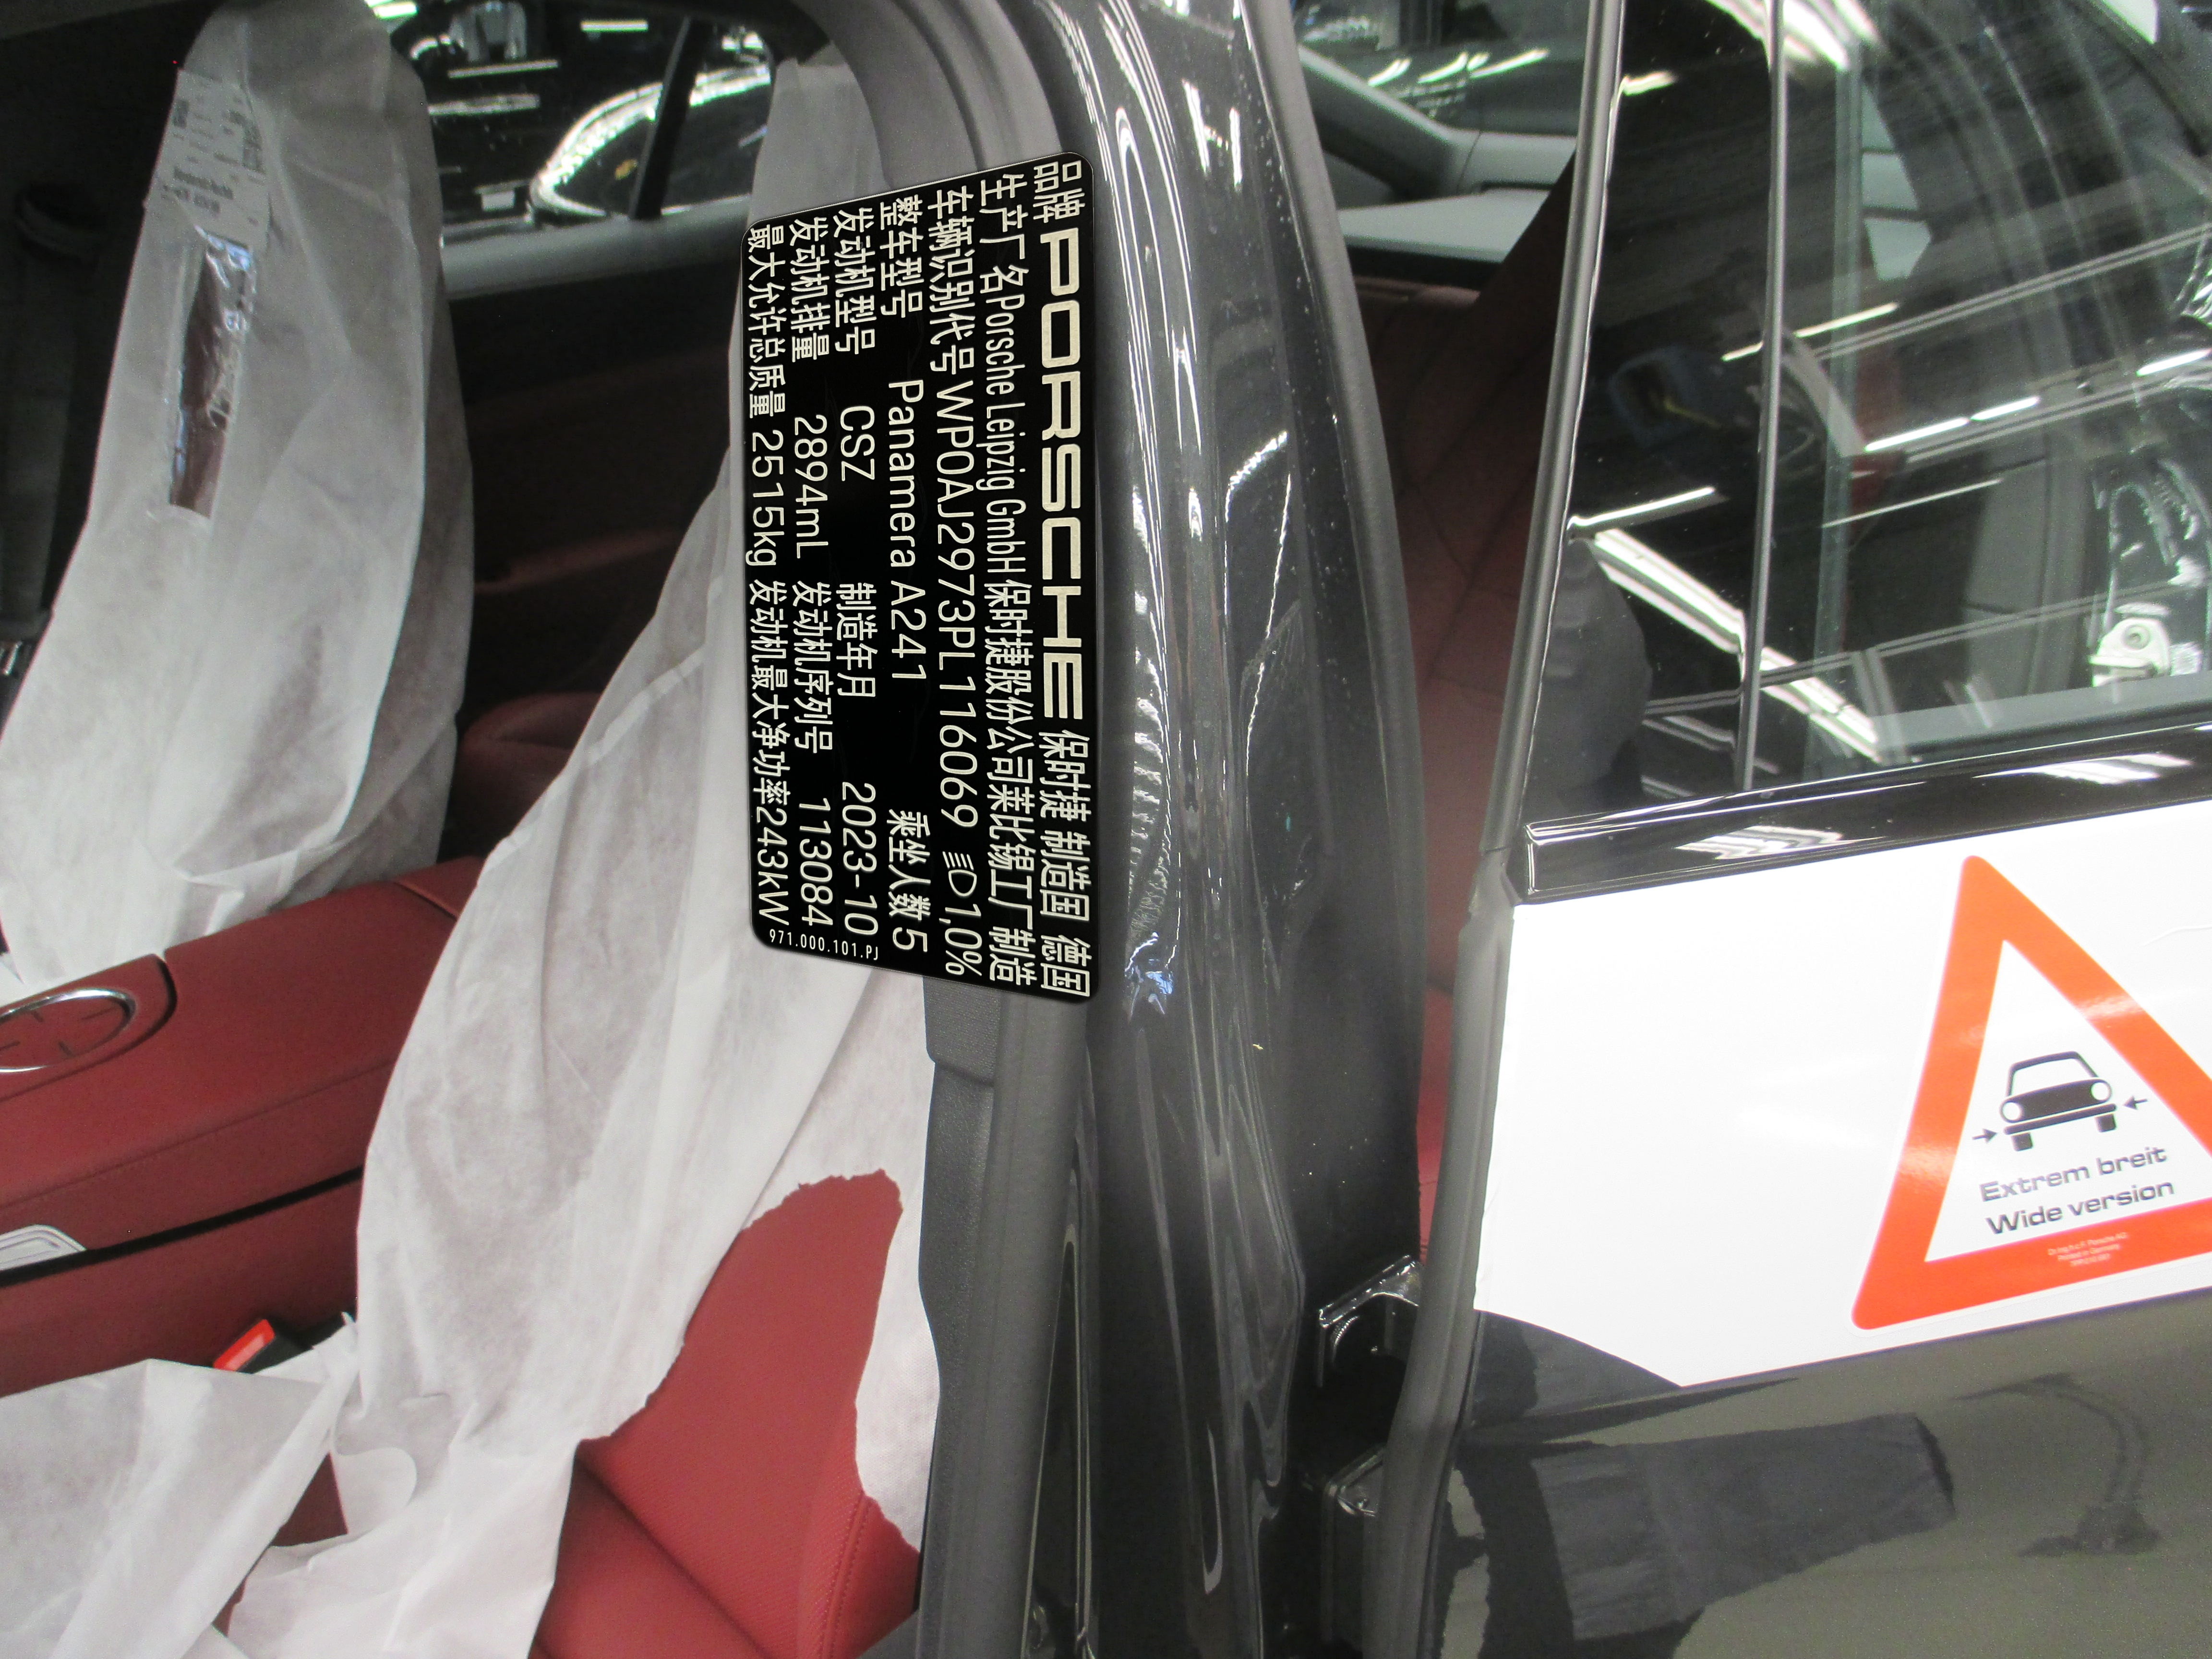Typlabel-China: (740, 152, 1099, 1004)
